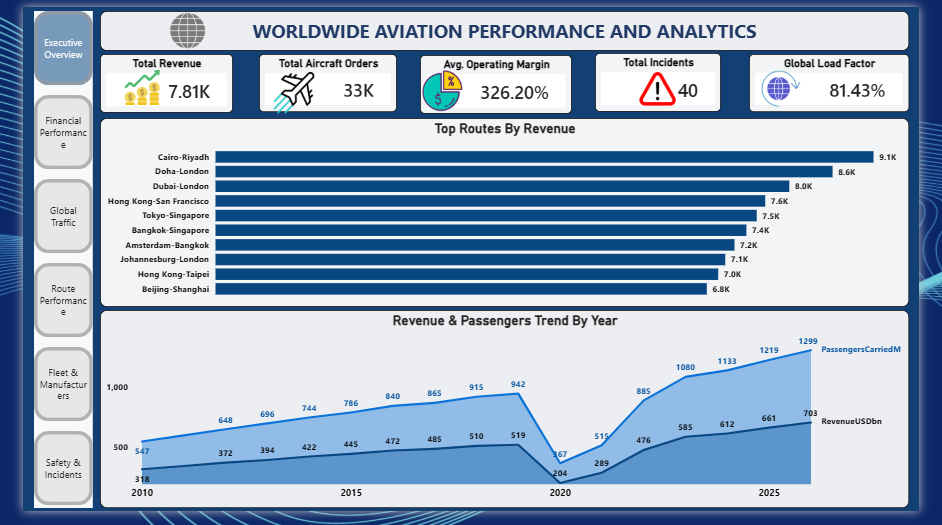

This screenshot's page, from the dashboard's own definition file:
{"tool":"powerbi","page":{"name":"Executive Overview","canvas":[1280,720],"ordinal":0},"visuals":[{"type":"cardVisual","title":"Total Revenue","fields":{"Data":["Dim_Airline2.Total_Revenue"]},"box":[110,67.1,190,84.3],"z":0,"group":"g1"},{"type":"areaChart","title":"Revenue & Passengers Trend By Year","fields":{"Category":["Fact_Financials3.Year"],"Y":["Sum(Fact_Financials3.RevenueUSDbn)","Sum(Fact_Financials3.PassengersCarriedM)"]},"box":[110,432.9,1155.7,282.9],"z":0},{"type":"cardVisual","title":"Avg. Operating Margin","fields":{"Data":["Fact_Financials3.Avg_Operating_Margin%"]},"box":[567.1,68.6,217.1,84.3],"z":1000,"group":"g3"},{"type":"clusteredBarChart","title":"Top Routes By Revenue","fields":{"Category":["Fact_Routes5.Route"],"Y":["Sum(Fact_Routes5.AnnualRevenueUSDm)"]},"box":[110,158.6,1155.7,270],"z":1000},{"type":"textbox","box":[110,5.7,1155.7,57.1],"z":2000},{"type":"cardVisual","title":"Global Load Factor","fields":{"Data":["Fact_Traffic4.Global Load Factor %"]},"box":[1037.1,67.1,228.6,82.9],"z":2000,"group":"g5"},{"type":"cardVisual","title":"Total Incidents","fields":{"Data":["Fact_Incidents7.Total_Incidents"]},"box":[817.1,65.7,180,84.3],"z":3000,"group":"g4"},{"type":"group","id":"g1","title":"Group 1","box":[110,67.1,190,84.3],"z":3000},{"type":"cardVisual","title":"Total Aircraft Orders","fields":{"Data":["Fact_FleetOrders6.Total_Aircraft_Orders"]},"box":[337.1,67.1,197.1,82.9],"z":4000,"group":"g2"},{"type":"group","id":"g2","title":"Group 2","box":[337.1,67.1,197.1,82.9],"z":4000},{"type":"group","id":"g3","title":"Group 3","box":[567.1,68.6,217.1,84.3],"z":5000},{"type":"group","id":"g4","title":"Group 4","box":[817.1,65.7,180,84.3],"z":6000},{"type":"group","id":"g5","title":"Group 5","box":[1037.1,67.1,228.6,82.9],"z":7000},{"type":"image","box":[147.1,4.3,175.7,58.6],"z":8000},{"type":"image","box":[104.3,90,131.4,50],"z":9000},{"type":"image","box":[337.1,92.9,100,58.6],"z":10000},{"type":"image","box":[567.1,90,64.3,58.6],"z":11000},{"type":"image","box":[858.6,91.4,95.7,51.4],"z":12000},{"type":"image","box":[1024.3,88.6,117.1,55.7],"z":13000},{"type":"pageNavigator","box":[15.7,5.7,84.3,710],"z":14000}]}

Visuals, with their boxes in screenshot pixels (x1, y1, x2, y2), scaled from the page's 1280x720 canvas onto the 942x525 screenshot:
"Total Revenue" cardVisual: l=81, t=49, r=221, b=110
"Revenue & Passengers Trend By Year" areaChart: l=81, t=316, r=931, b=522
"Avg. Operating Margin" cardVisual: l=417, t=50, r=577, b=111
"Top Routes By Revenue" clusteredBarChart: l=81, t=116, r=931, b=313
textbox: l=81, t=4, r=931, b=46
"Global Load Factor" cardVisual: l=763, t=49, r=931, b=109
"Total Incidents" cardVisual: l=601, t=48, r=734, b=109
"Group 1" group: l=81, t=49, r=221, b=110
"Total Aircraft Orders" cardVisual: l=248, t=49, r=393, b=109
"Group 2" group: l=248, t=49, r=393, b=109
"Group 3" group: l=417, t=50, r=577, b=111
"Group 4" group: l=601, t=48, r=734, b=109
"Group 5" group: l=763, t=49, r=931, b=109
image: l=108, t=3, r=238, b=46
image: l=77, t=66, r=173, b=102
image: l=248, t=68, r=322, b=110
image: l=417, t=66, r=465, b=108
image: l=632, t=67, r=702, b=104
image: l=754, t=65, r=840, b=105
pageNavigator: l=12, t=4, r=74, b=522
